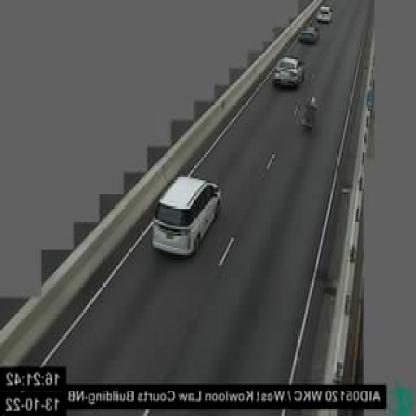Car: (150, 174, 220, 256), (270, 54, 304, 91), (300, 24, 319, 44), (318, 4, 332, 21)
